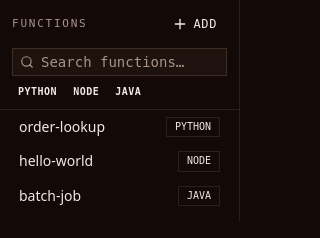
Test: switches solo to the newly clicked language
The width and height of the screenshot is (320, 238).
Click the button "java": (128, 92) [109, 82, 147, 101]
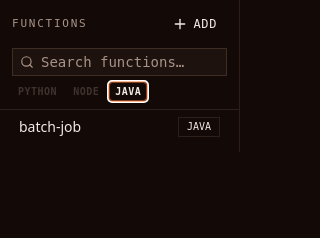
Click the button "python": (38, 92) [12, 82, 63, 101]
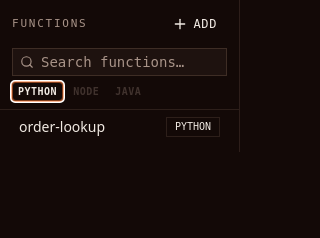
Check: the button "hello-world" is not shown
Check: the text "order-lookup" is shown, box [19, 117, 105, 137]
Check: the button "batch-job" is gone
